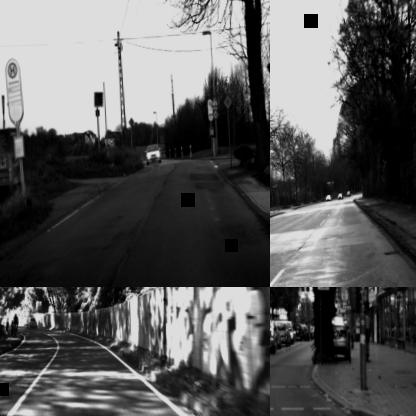DANGER: (210, 94, 219, 108)
priority road: (222, 94, 232, 110)
speed limit 30: (212, 109, 219, 120)
